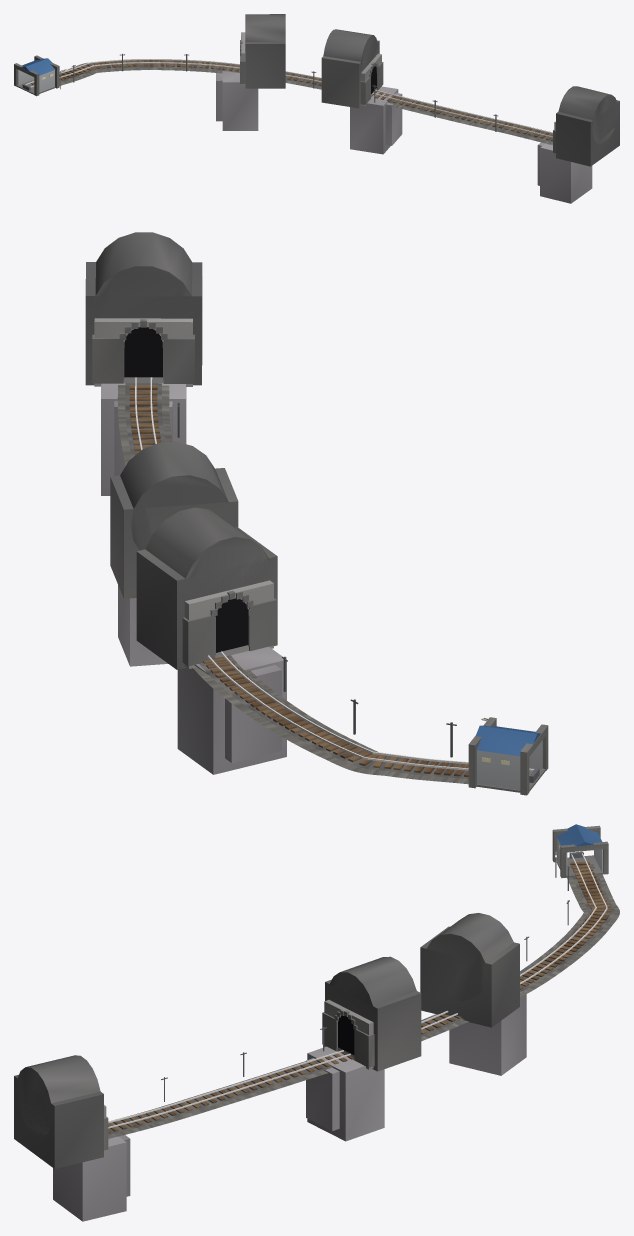
Rendered from Rail_P2.fbx.
3 views of the same model, one above another, from view 1: azimuth 30°, elevation 25°; view 2: azimuth 150°, elevation 25°; view 3: azimuth 270°, elevation 25° (orthographic). The views are drawn at different scales.
Parts seen in each view (by area): view 1: Rail.PortalIn0, Rail.Portal, Rail.PortalOut0, Rail.Sleepers, Rail.Bed, Rail.Shed, Rail.Ballast, Rail.Rail.001, Rail.Rail; view 2: Rail.PortalOut0, Rail.Portal, Rail.PortalIn0, Rail.Sleepers, Rail.Shed, Rail.Ballast, Rail.Bed, Rail.Rail, Rail.Rail.001; view 3: Rail.PortalIn0, Rail.Portal, Rail.PortalOut0, Rail.Sleepers, Rail.Ballast, Rail.Bed, Rail.Shed, Rail.Rail, Rail.Rail.001.
Boxes of the visible parts, x1,y1,x2,y2 form: Rail.PortalIn0: (321, 29, 402, 154); Rail.Portal: (537, 86, 619, 203); Rail.PortalOut0: (216, 14, 285, 130); Rail.Sleepers: (31, 60, 552, 140); Rail.Bed: (59, 60, 552, 142); Rail.Shed: (14, 55, 59, 96); Rail.Ballast: (59, 62, 552, 145); Rail.Rail.001: (30, 62, 552, 137); Rail.Rail: (25, 59, 552, 133); Rail.PortalOut0: (136, 507, 286, 774); Rail.Portal: (85, 232, 202, 495); Rail.PortalIn0: (110, 441, 238, 666); Rail.Sleepers: (129, 385, 468, 776); Rail.Shed: (468, 717, 548, 795); Rail.Ballast: (117, 385, 468, 784); Rail.Bed: (125, 383, 468, 778); Rail.Rail: (135, 377, 468, 770); Rail.Rail.001: (150, 377, 533, 771); Rail.PortalIn0: (306, 956, 421, 1141); Rail.Portal: (14, 1055, 130, 1221); Rail.PortalOut0: (420, 913, 526, 1075); Rail.Sleepers: (108, 862, 611, 1133); Rail.Ballast: (108, 874, 619, 1138); Rail.Bed: (108, 864, 614, 1134); Rail.Shed: (552, 824, 608, 878); Rail.Rail: (108, 853, 607, 1128); Rail.Rail.001: (108, 854, 596, 1123).
Size of the model in its own units: 21338 by 5799 by 19166.
